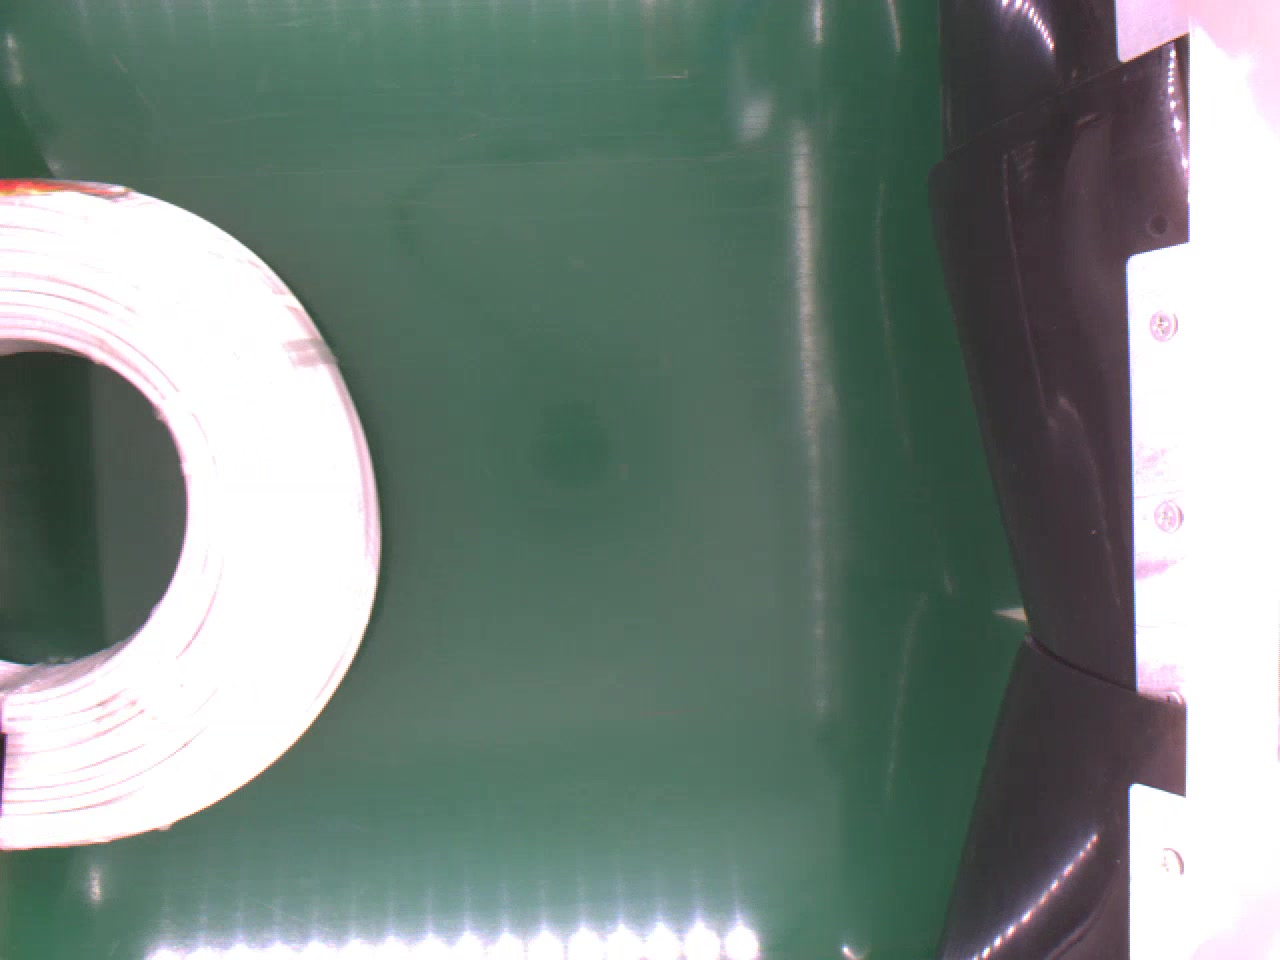white: (0, 173, 381, 847)
